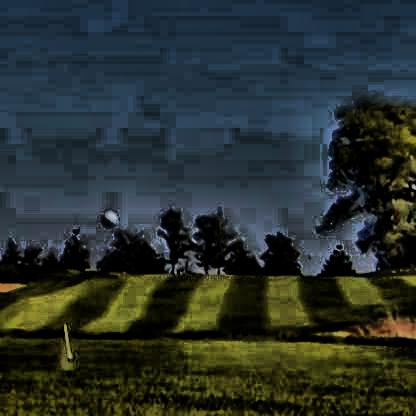golfball: (98, 207, 115, 225)
